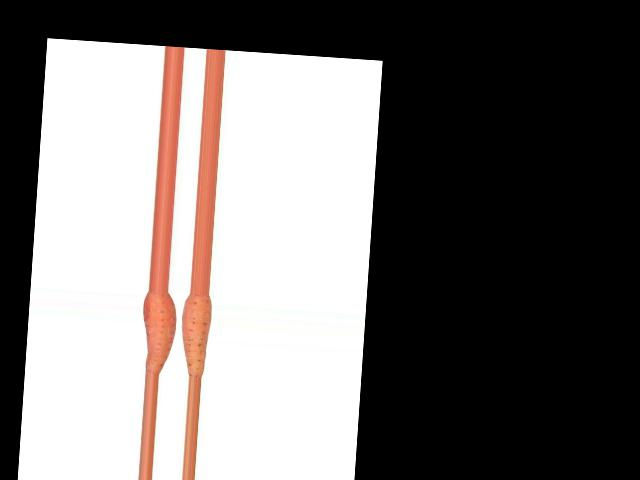sweet_potato: (178, 292, 211, 375)
